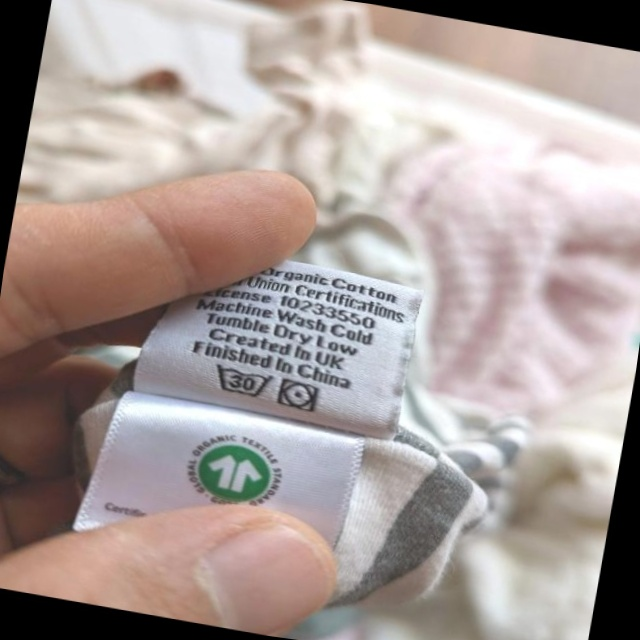30C: (206, 359, 277, 404)
tumble_dry_low: (273, 375, 323, 417)
